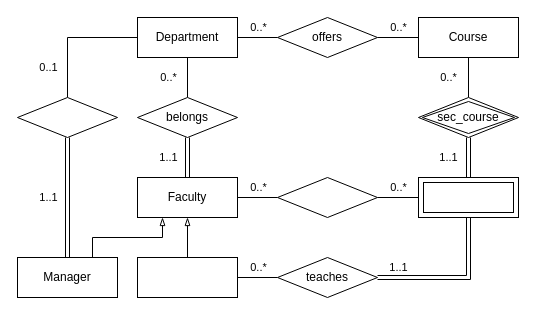
Image size: 536x315. Some labels were removed from this diagram. Here are the shapes that lost their labels. From the top down, the centre of each, then its label:
the point at 67,117: manages
the point at 327,197: takes
the point at 468,197: Section
the point at 187,277: Instructor
